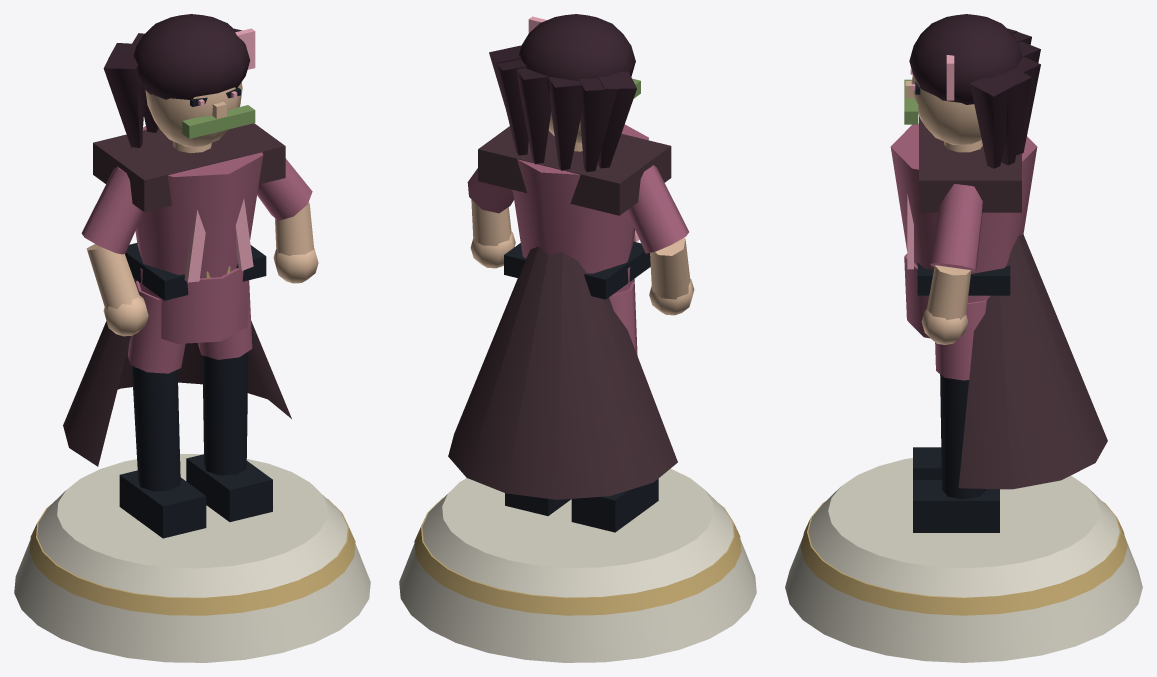
The model's file is nezuko.glb.
3 renders of one model, left to right at view 1: azimuth 30°, elevation 25°; view 2: azimuth 150°, elevation 25°; view 3: azimuth 270°, elevation 25°, orthographic.
Parts seen in each view (by area): view 1: Placeholder Nezuko Kamado; view 2: Placeholder Nezuko Kamado; view 3: Placeholder Nezuko Kamado.
Part boxes in pixels (x1,y1,x2,y2): Placeholder Nezuko Kamado: [14, 14, 370, 662]; Placeholder Nezuko Kamado: [399, 14, 756, 662]; Placeholder Nezuko Kamado: [785, 14, 1142, 662].
Bounding box in the file's own units: 0.54 × 0.9438 × 0.54.
